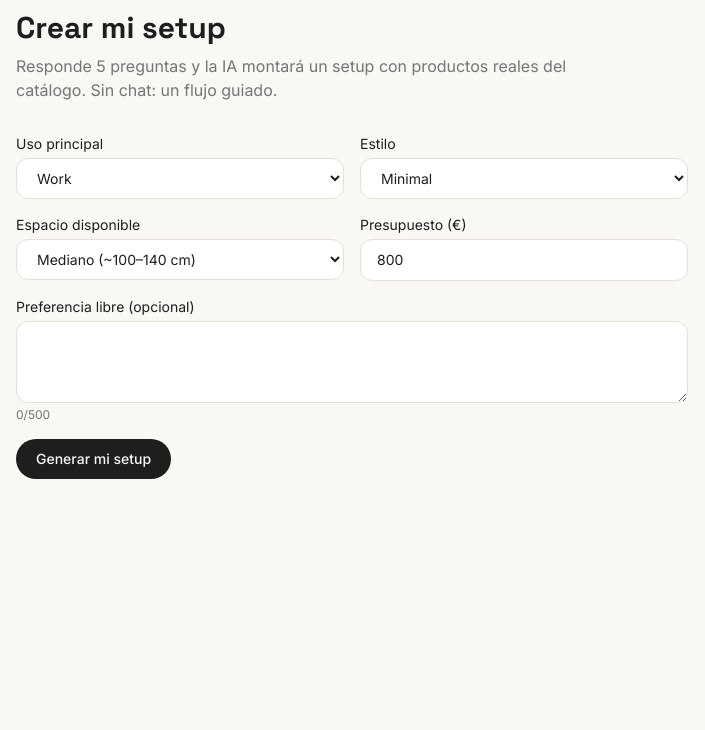
Test: CrearMiSetup › shows recommendation with total and explanation
The image size is (705, 730).
Click the button "Generar mi setup": {"x": 94, "y": 459} 16,439 -> 171,479
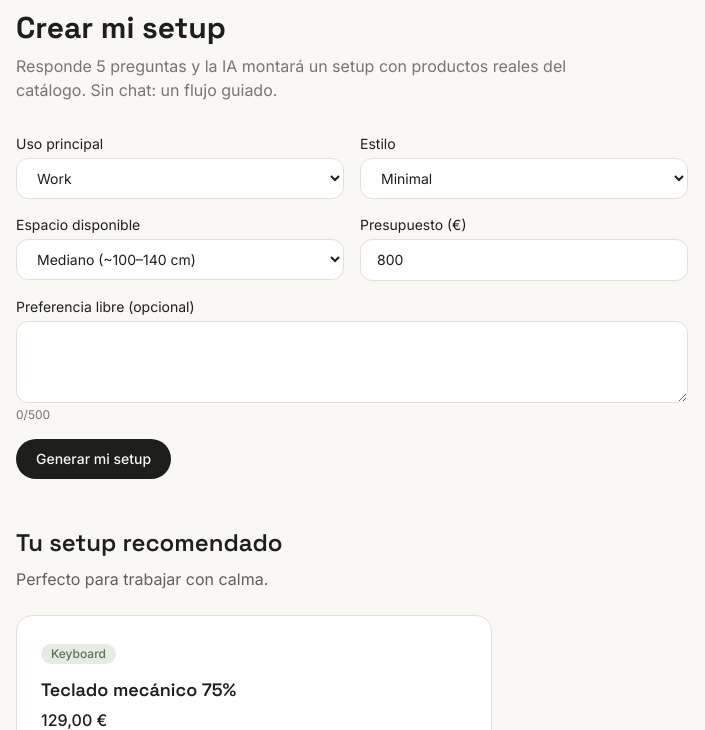
Check: the heading "Tu setup recomendado" is shown, box 16,527 -> 282,558
Check: the text "Perfecto para trabajar con calma." is shown, box 16,569 -> 268,589
Check: the text "129,00 €" is shown 2 times
